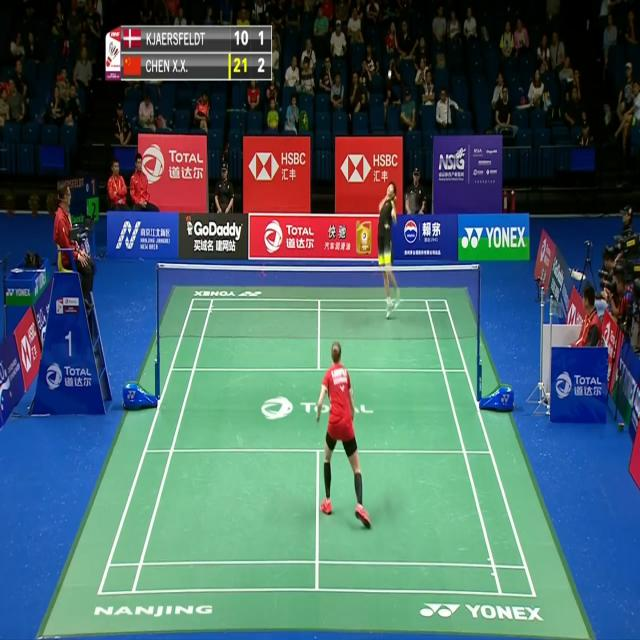Player1: (313, 337, 379, 530)
Player2: (374, 176, 404, 327)
